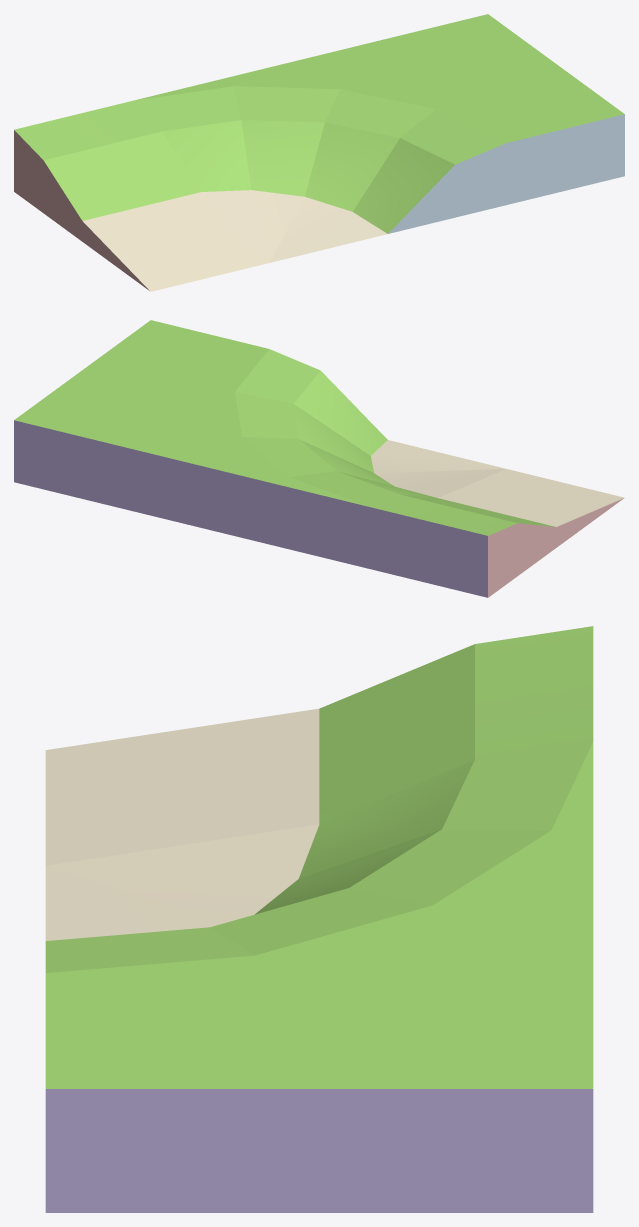
Rendered from Tiered_Walkway_Step_Top_Path_Transition_1x2.glb.
3 renders of one model, top to bottom at view 1: azimuth 30°, elevation 25°; view 2: azimuth 150°, elevation 25°; view 3: azimuth 270°, elevation 25°, orthographic. The views are drawn at different scales.
Visible parts, largest first — view 1: object1.007; view 2: object1.007; view 3: object1.007.
Part boxes in pixels (box(x1,y1,x2,y2)): object1.007: box(14, 14, 624, 291); object1.007: box(14, 320, 624, 597); object1.007: box(45, 626, 593, 1212).
Size of the model in its own units: 200 by 25 by 100.
